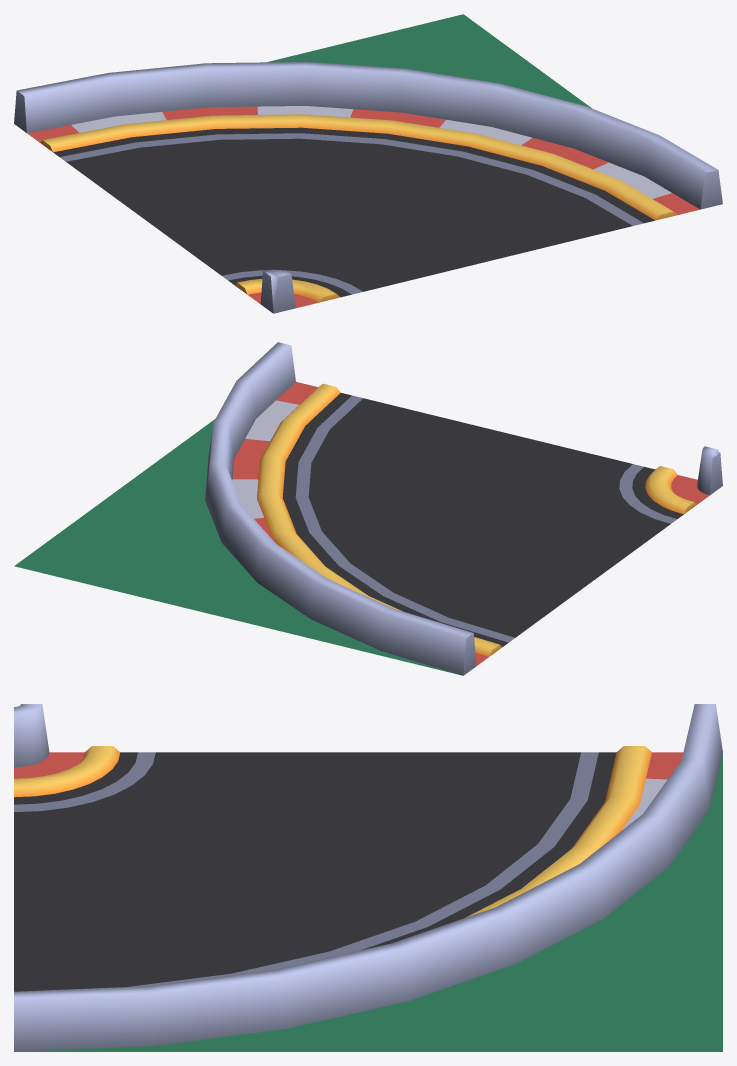
Rendered from track-corner-plain.glb.
3 renders of one model, top to bottom at view 1: azimuth 30°, elevation 25°; view 2: azimuth 150°, elevation 25°; view 3: azimuth 270°, elevation 25°, orthographic. The views are drawn at different scales.
Visible parts, largest first — view 1: track-corner; view 2: track-corner; view 3: track-corner.
Boxes of the visible parts, <box> form: track-corner: <box>14,14,722,313</box>; track-corner: <box>14,342,722,675</box>; track-corner: <box>14,704,722,1051</box>.
Size of the model in its own units: 10 by 0.75 by 10.
Materials: 1 (1 with a texture image).
